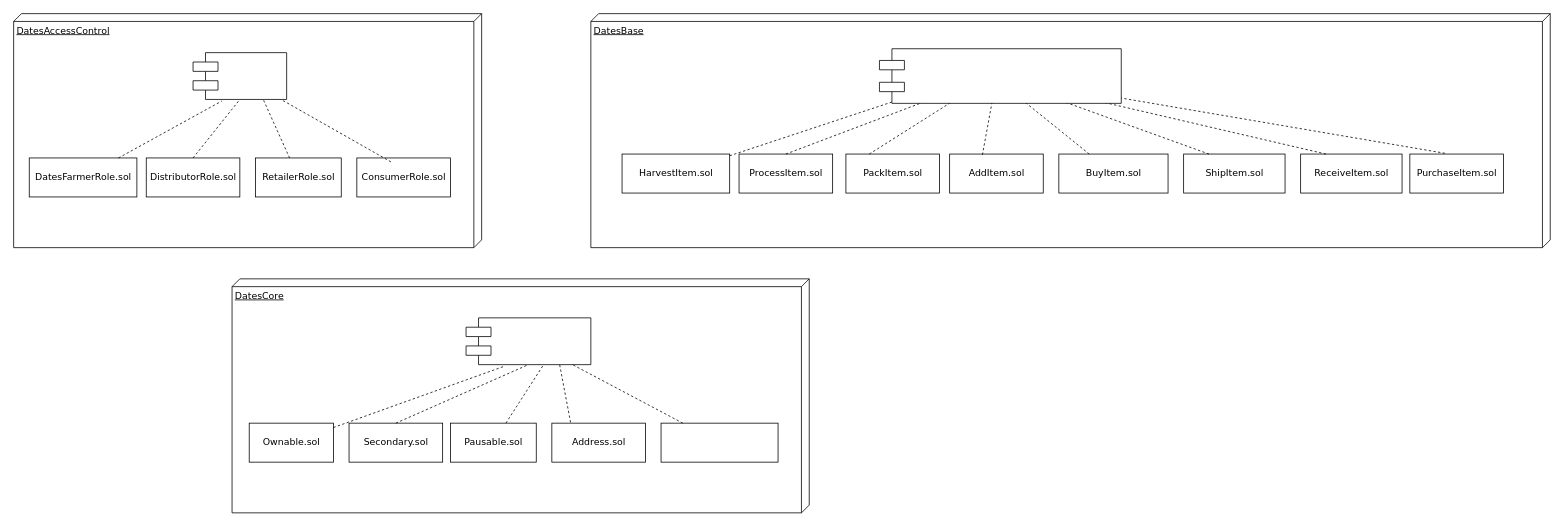
Image size: 1564x527. Some labels were removed from this diagram. The shapes that lost their labels are listed below. From the top down, each one's centre as x and y in pixels, then its label:
At pixel 239 75: "Roles.sol".
At pixel 1000 75: "SupplyChain.sol".
At pixel 528 341: "ValueChain.sol".
At pixel 719 442: "ReentrancyGuard.sol".
